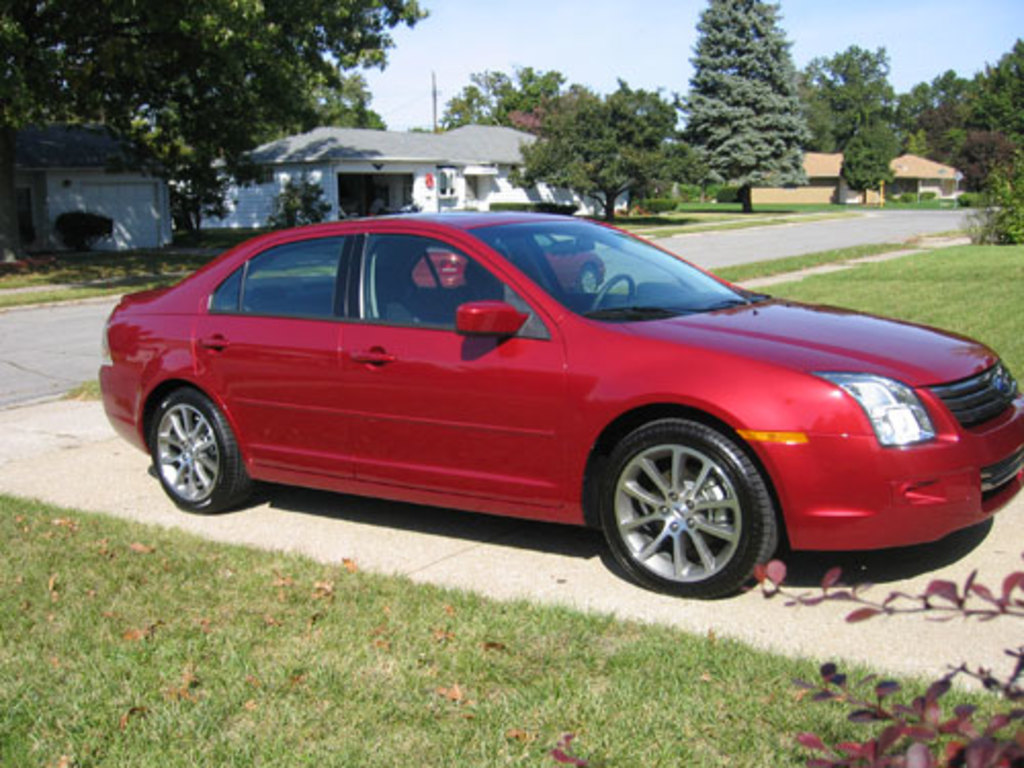Car: (94, 206, 1021, 602)
